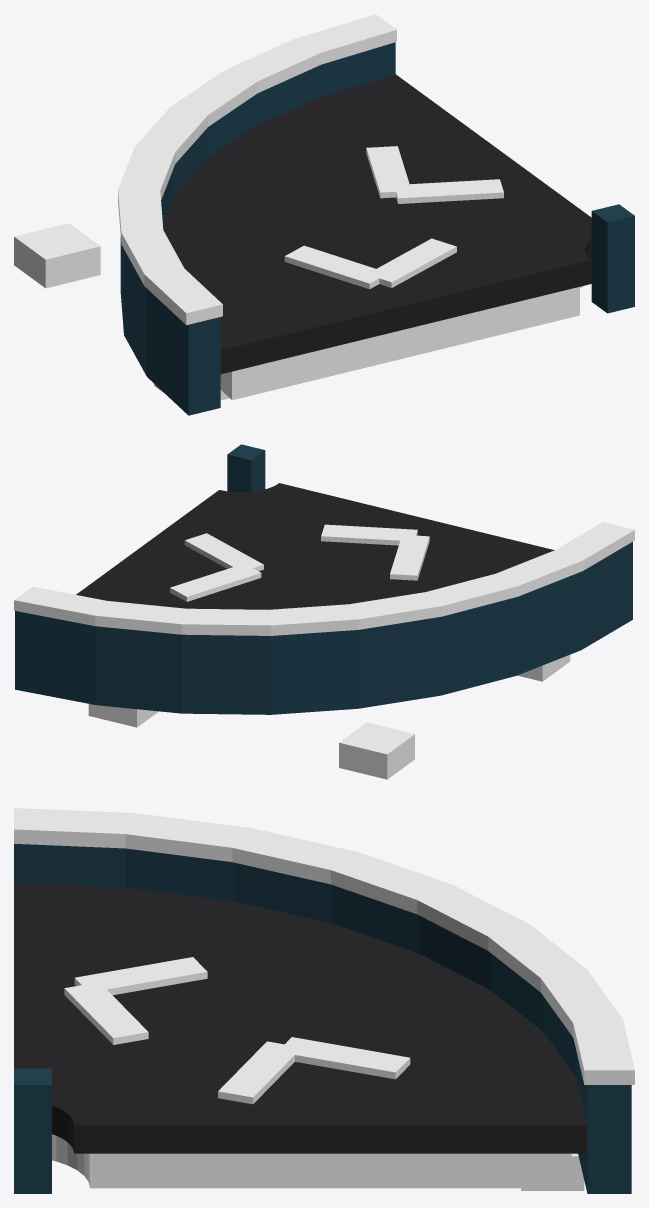
File: belt_corner_l.obj
3 renders of one model, top to bottom at view 1: azimuth 30°, elevation 25°; view 2: azimuth 150°, elevation 25°; view 3: azimuth 270°, elevation 25°, orthographic. The views are drawn at different scales.
Parts seen in each view (by area): view 1: Belt; view 2: Belt; view 3: Belt.
Part boxes in pixels (left/top/right/bottom): Belt: left=14, top=14, right=634, bottom=415; Belt: left=14, top=444, right=634, bottom=779; Belt: left=14, top=808, right=634, bottom=1193.
Size of the model in its own units: 0.98 by 0.275 by 0.98.
